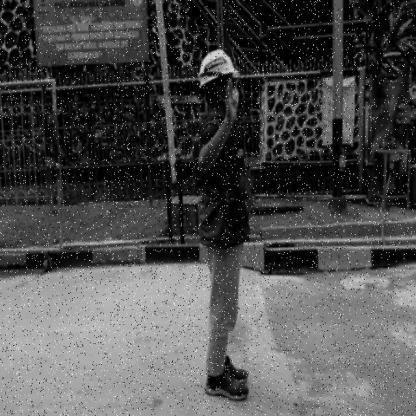boots: (204, 370, 250, 404), (223, 353, 250, 385)
helmet: (198, 48, 240, 86)
mask: (232, 88, 242, 112)
vest: (190, 134, 257, 216)
